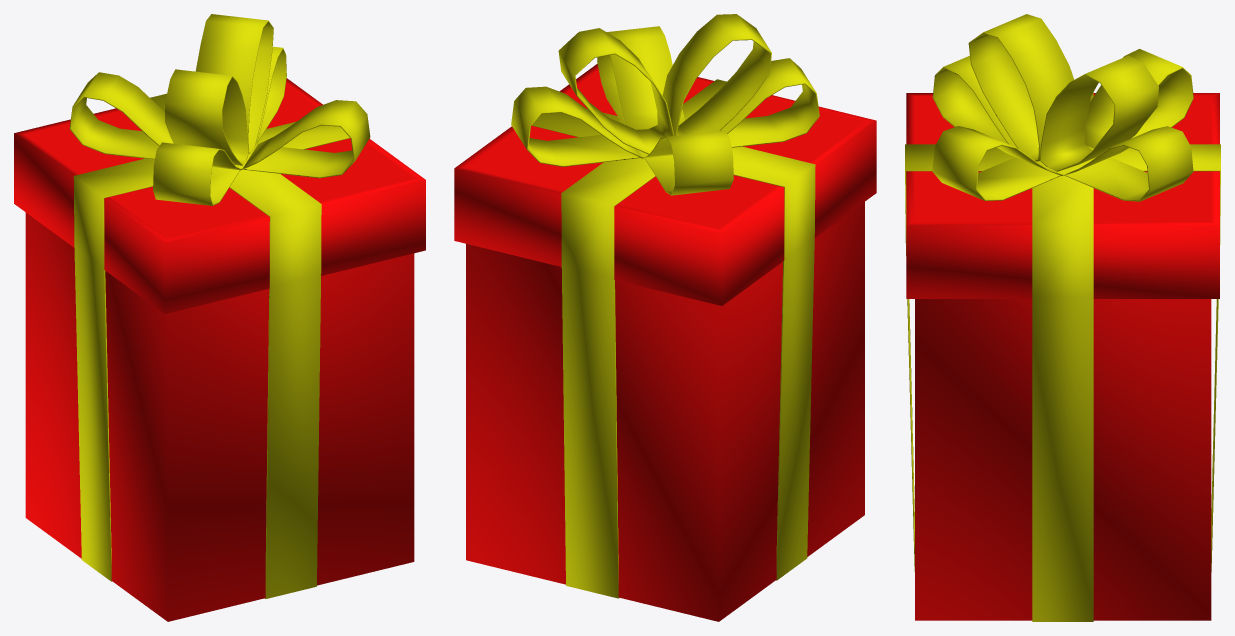
Rendered from present1.fbx.
3 renders of one model, left to right at view 1: azimuth 30°, elevation 25°; view 2: azimuth 150°, elevation 25°; view 3: azimuth 270°, elevation 25°, orthographic. The views are drawn at different scales.
Visible parts, largest first — view 1: present; view 2: present; view 3: present.
Boxes of the visible parts, x1,y1,x2,y2 form: present: [14, 14, 425, 621]; present: [454, 14, 876, 621]; present: [905, 14, 1220, 621].
Bounding box in the file's own units: 213 × 382 × 213.
1 material, 1 textured.
